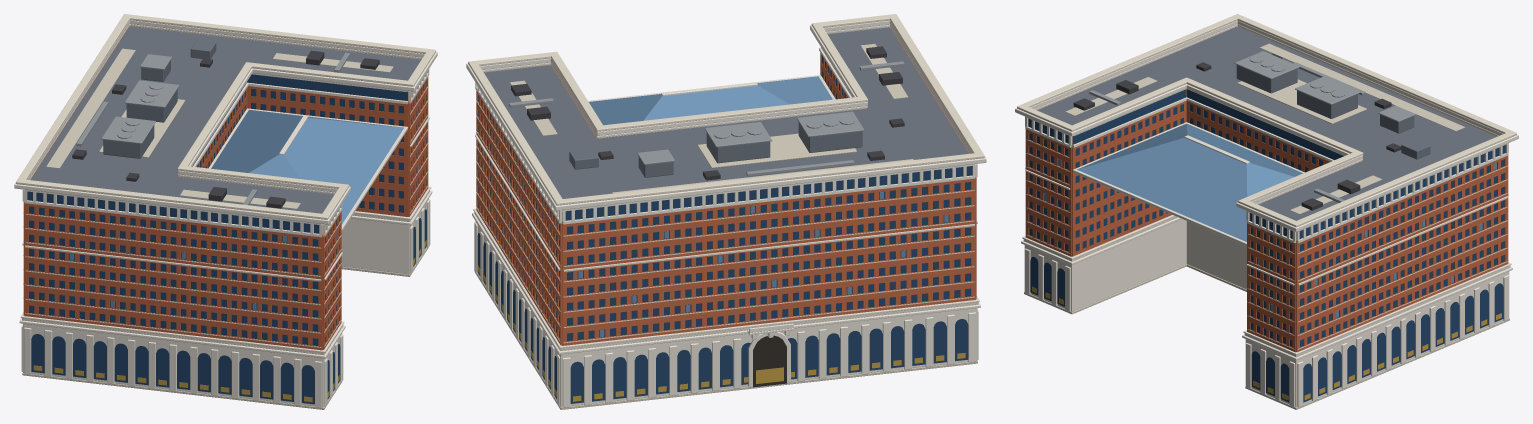
File: 1-market.glb
3 renders of one model, left to right at view 1: azimuth 30°, elevation 25°; view 2: azimuth 150°, elevation 25°; view 3: azimuth 270°, elevation 25°, orthographic. The views are drawn at different scales.
Visible parts, largest first — view 1: body, corn_cap, base, atrium_glow, corn_corona, atrium_glass, spear_att, walk_a, spear_span6, belt, spear_span14, spear_span2 (+92 smaller); view 2: body, corn_cap, corn_corona, atrium_glow, base, market_att, market_span8, market_span2, market_span14, market_span4, market_span12, market_span6 (+101 smaller); view 3: body, base, corn_cap, atrium_glow, corn_corona, atrium_glass, belt, walk_a, corn_arch, plinth, crtnw_att, balus (+46 smaller).
Part boxes in pixels (x1,y1,x2,y2): body: (30,26,420,236); corn_cap: (16,14,435,219); base: (23,198,428,407); atrium_glow: (230,112,378,182); corn_corona: (14,20,437,224); atrium_glass: (211,109,403,224); spear_att: (27,191,319,233); walk_a: (46,48,135,168); spear_span6: (24,270,322,310); belt: (19,190,432,358); spear_span14: (24,213,322,253); spear_span2: (24,298,322,338); body: (484,27,969,223); corn_cap: (468,14,984,205); corn_corona: (466,20,986,210); atrium_glow: (589,78,813,125); base: (475,221,977,407); market_att: (565,166,972,220); market_span8: (562,235,975,287); market_span2: (562,281,975,333); market_span14: (562,189,975,241); market_span4: (562,266,975,318); market_span12: (562,205,975,257); market_span6: (562,250,975,303); body: (1037,26,1496,242); base: (1024,219,1509,407); corn_cap: (1017,14,1516,227); atrium_glow: (1107,127,1297,215); corn_corona: (1015,20,1518,231); atrium_glass: (1077,123,1302,241); belt: (1021,217,1512,360); walk_a: (1259,43,1465,131); corn_arch: (1035,24,1498,204); plinth: (1024,264,1509,409); crtnw_att: (1187,89,1343,159); balus: (1022,215,1511,354).
Size of the model in its own units: 112 by 48.7 by 112.
